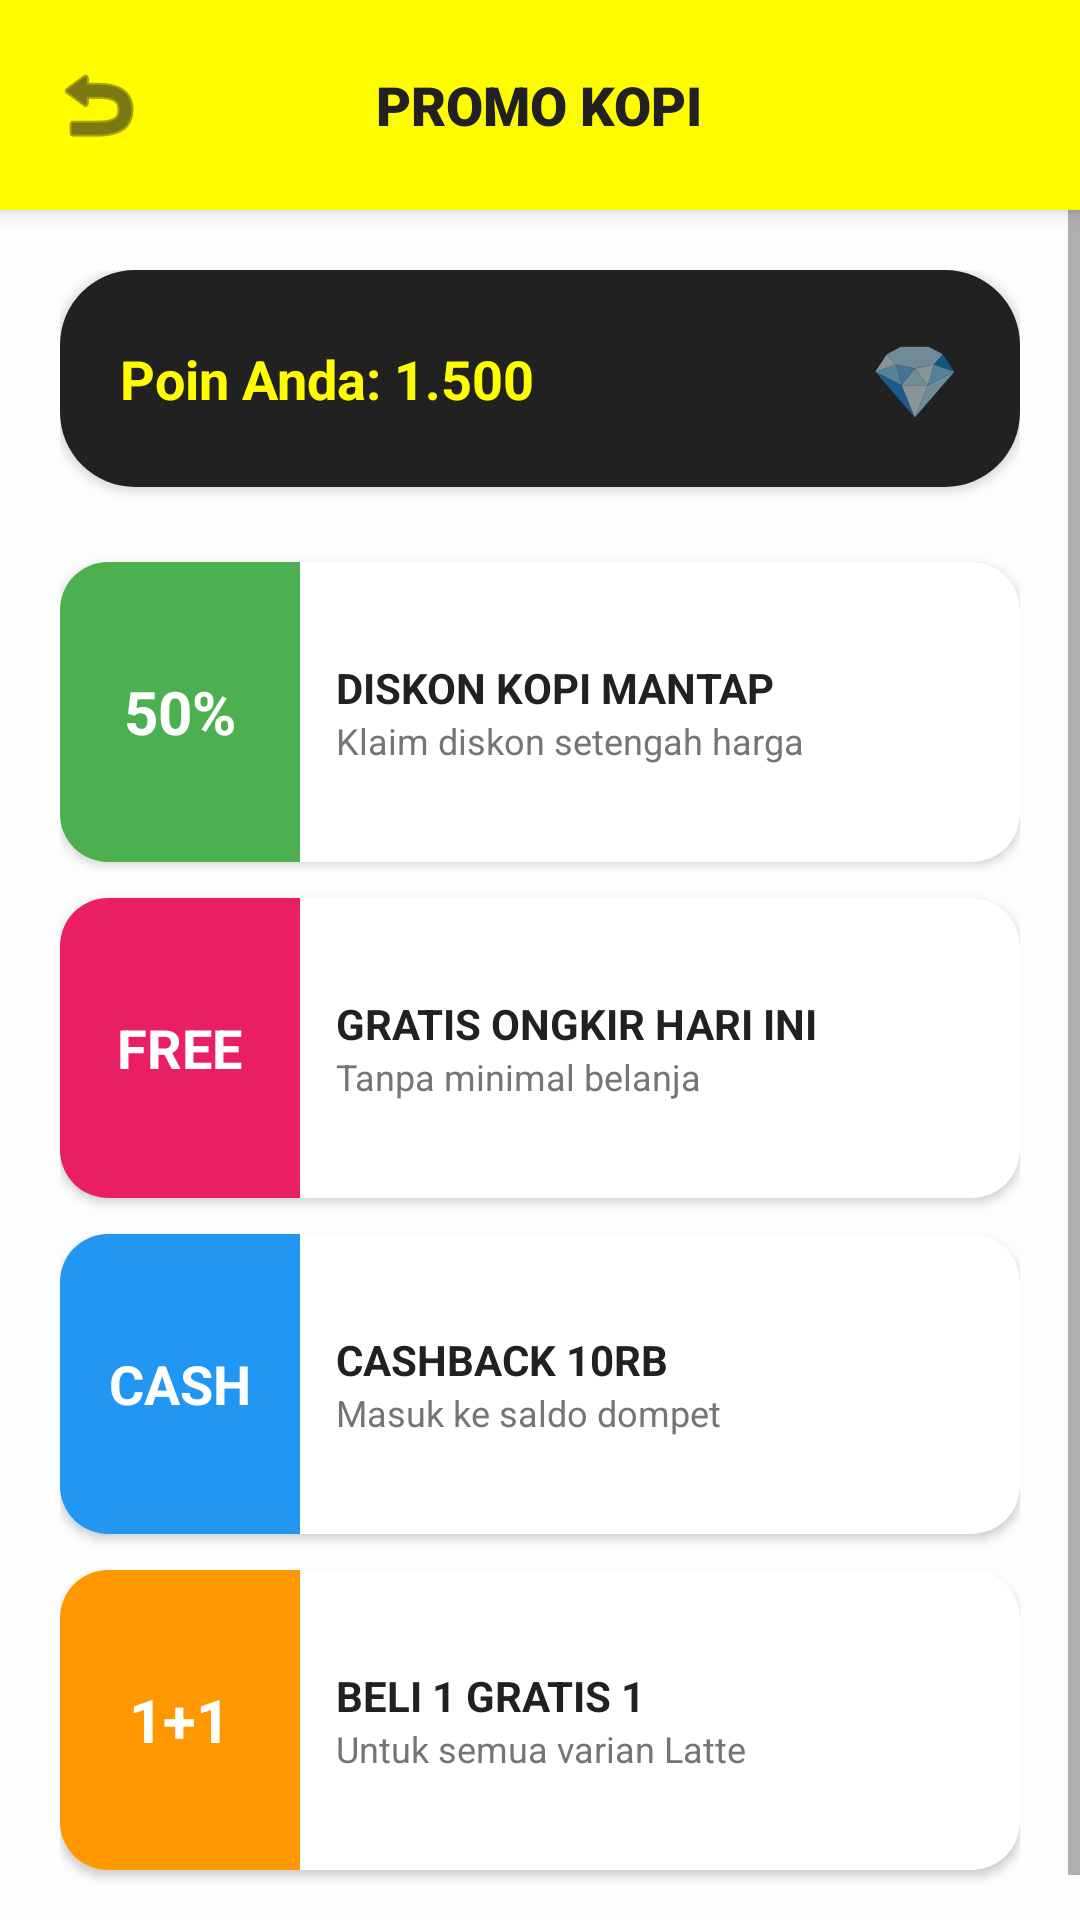

Screen size 1080px x 1920px. Icon name, then its box in pixels as (x1, y1, x2, y2):
revert: (65, 74, 134, 137)
